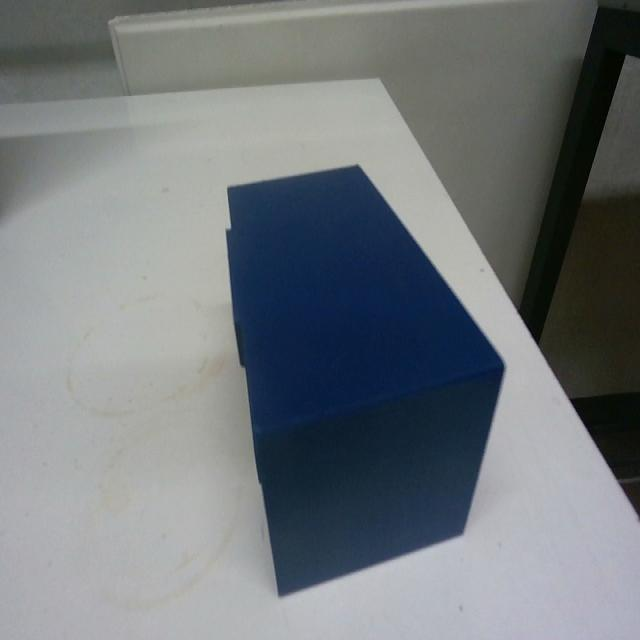Blue Cuboid: (222, 160, 507, 596)
